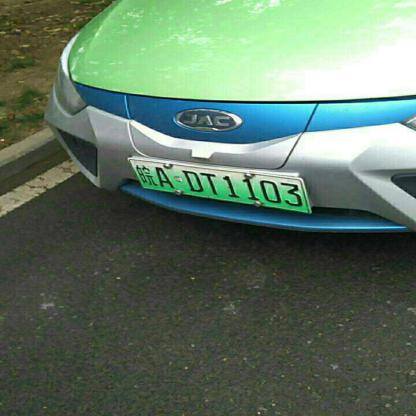lp: (128, 158, 310, 212)
